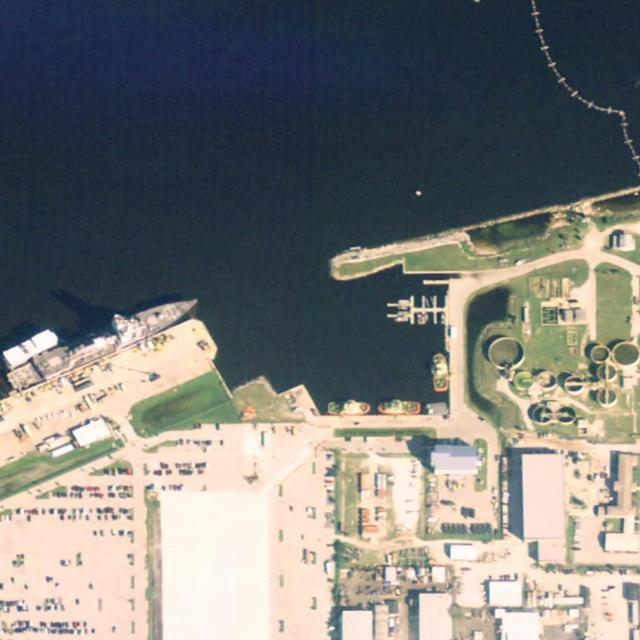Destroyer: (5, 288, 204, 393)
Hovercraft: (429, 352, 450, 392), (376, 399, 421, 415), (327, 399, 372, 415)
